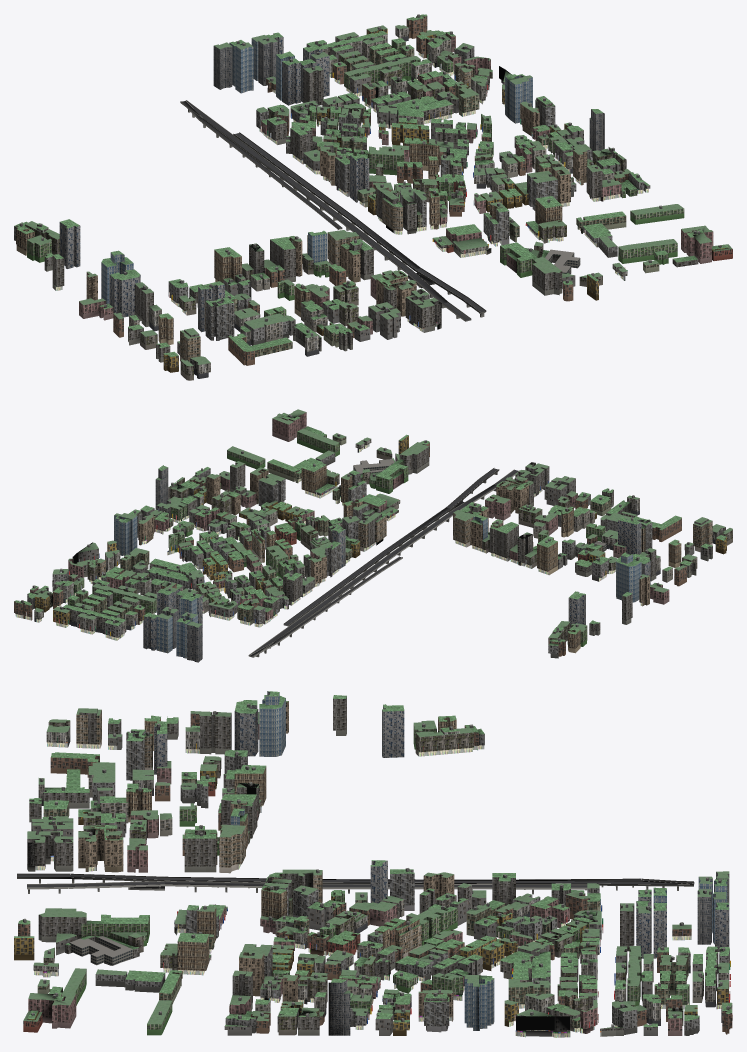
3 renders of one model, top to bottom at view 1: azimuth 30°, elevation 25°; view 2: azimuth 150°, elevation 25°; view 3: azimuth 270°, elevation 25°, orthographic. The views are drawn at different scales.
Parts seen in each view (by area): view 1: buildings_roof_ai_1, buildings_roof_ai_0, buildings_facade_ai_concrete, buildings_facade_ai_green_tile_apts, buildings_facade_ai_glass_office_v2, buildings_facade_ai_pink, buildings_facade_ai_brown_brick_tile, buildings_facade_ai_old_concrete_balcony, buildings_facade_ai_condo_1990s, buildings_facade_ai_grey_wash, buildings_facade_ai_hotel_tiles, buildings_facade_glass (+12 smaller); view 2: buildings_roof_ai_1, buildings_roof_ai_0, buildings_facade_ai_concrete, buildings_facade_ai_pink, buildings_facade_ai_green_tile_apts, buildings_facade_glass, buildings_facade_ai_hotel_tiles, buildings_facade_ai_grey, buildings_facade_ai_white_tile_apts, buildings_facade_ai_grey_wash, buildings_facade_ai_shophouse_arcade, buildings_facade_ai_glass_office_v2 (+13 smaller); view 3: buildings_roof_ai_1, buildings_roof_ai_0, buildings_facade_ai_concrete, buildings_facade_ai_glass_office_v2, buildings_facade_ai_grey_wash, buildings_facade_ai_pink, buildings_facade_ai_grey, buildings_facade_ai_green_tile_apts, buildings_facade_ai_brown_brick_tile, buildings_facade_ai_white_tile_apts, buildings_facade_ai_old_concrete_balcony, buildings_facade_ai_hotel_tiles (+16 smaller).
Part boxes in pixels (x1=…): buildings_roof_ai_1: x1=25, y1=25, x2=732, y2=366; buildings_roof_ai_0: x1=14, y1=14, x2=728, y2=356; buildings_facade_ai_concrete: x1=44, y1=69, x2=698, y2=362; buildings_facade_ai_green_tile_apts: x1=27, y1=40, x2=684, y2=316; buildings_facade_ai_glass_office_v2: x1=59, y1=33, x2=369, y2=332; buildings_facade_ai_pink: x1=79, y1=33, x2=713, y2=334; buildings_facade_ai_brown_brick_tile: x1=16, y1=16, x2=629, y2=365; buildings_facade_ai_old_concrete_balcony: x1=25, y1=64, x2=626, y2=380; buildings_facade_ai_condo_1990s: x1=205, y1=100, x2=557, y2=340; buildings_facade_ai_grey_wash: x1=177, y1=48, x2=650, y2=354; buildings_facade_ai_hotel_tiles: x1=86, y1=103, x2=587, y2=316; buildings_facade_glass: x1=101, y1=38, x2=532, y2=303; buildings_roof_ai_1: x1=34, y1=409, x2=732, y2=638; buildings_roof_ai_0: x1=14, y1=413, x2=726, y2=645; buildings_facade_ai_concrete: x1=52, y1=432, x2=712, y2=635; buildings_facade_ai_pink: x1=30, y1=412, x2=669, y2=624; buildings_facade_ai_green_tile_apts: x1=67, y1=431, x2=605, y2=646; buildings_facade_glass: x1=114, y1=515, x2=641, y2=658; buildings_facade_ai_hotel_tiles: x1=138, y1=469, x2=649, y2=605; buildings_facade_ai_grey: x1=27, y1=453, x2=617, y2=658; buildings_facade_ai_white_tile_apts: x1=34, y1=439, x2=725, y2=638; buildings_facade_ai_grey_wash: x1=44, y1=454, x2=694, y2=620; buildings_facade_ai_shophouse_arcade: x1=254, y1=465, x2=681, y2=653; buildings_facade_ai_glass_office_v2: x1=143, y1=519, x2=650, y2=650; buildings_roof_ai_1: x1=23, y1=701, x2=732, y2=1024; buildings_roof_ai_0: x1=14, y1=691, x2=732, y2=1028; buildings_facade_ai_concrete: x1=27, y1=697, x2=634, y2=1036; buildings_facade_ai_glass_office_v2: x1=154, y1=705, x2=729, y2=958; buildings_facade_ai_grey_wash: x1=31, y1=735, x2=702, y2=1036; buildings_facade_ai_pink: x1=28, y1=724, x2=682, y2=1035; buildings_facade_ai_grey: x1=92, y1=734, x2=729, y2=1035; buildings_facade_ai_green_tile_apts: x1=49, y1=721, x2=689, y2=1035; buildings_facade_ai_brown_brick_tile: x1=18, y1=713, x2=732, y2=1034; buildings_facade_ai_white_tile_apts: x1=33, y1=725, x2=732, y2=1025; buildings_facade_ai_old_concrete_balcony: x1=43, y1=721, x2=626, y2=1035; buildings_facade_ai_hotel_tiles: x1=78, y1=701, x2=454, y2=1021.
Bounding box in the file's own units: 718 × 65.83 × 704.
28 materials, 25 textured.
